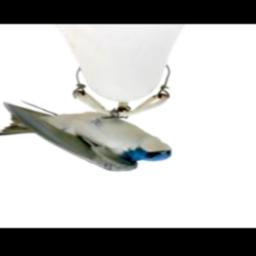Swallow: (0, 98, 173, 172)
